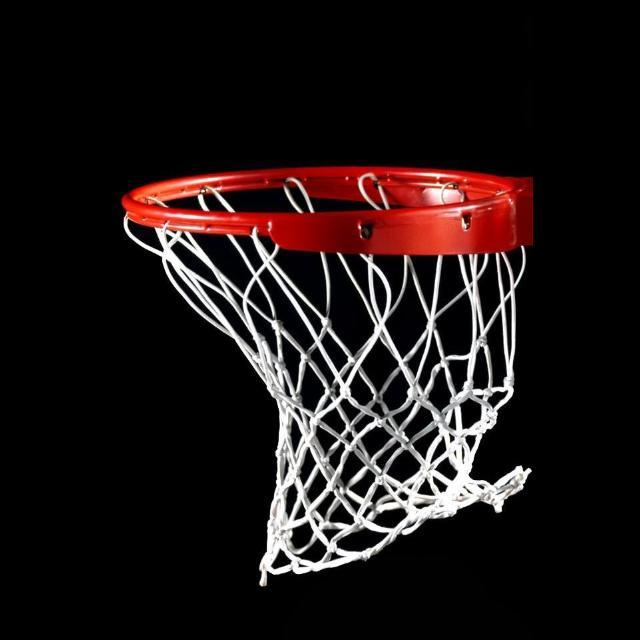rim: (124, 164, 528, 574)
